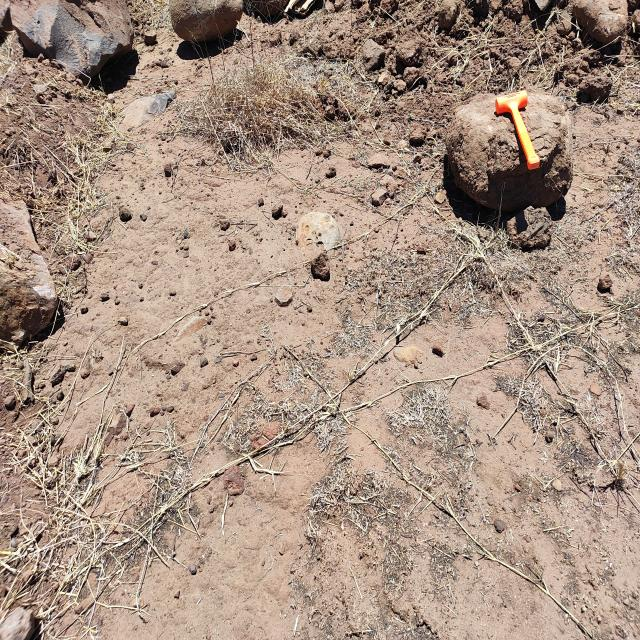Orange_hammer: (494, 88, 540, 171)
